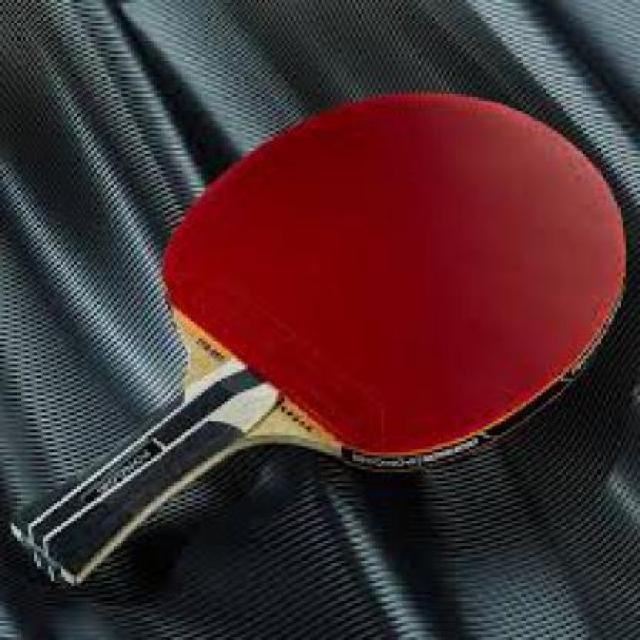table_tennis_racket: (158, 85, 630, 478)
